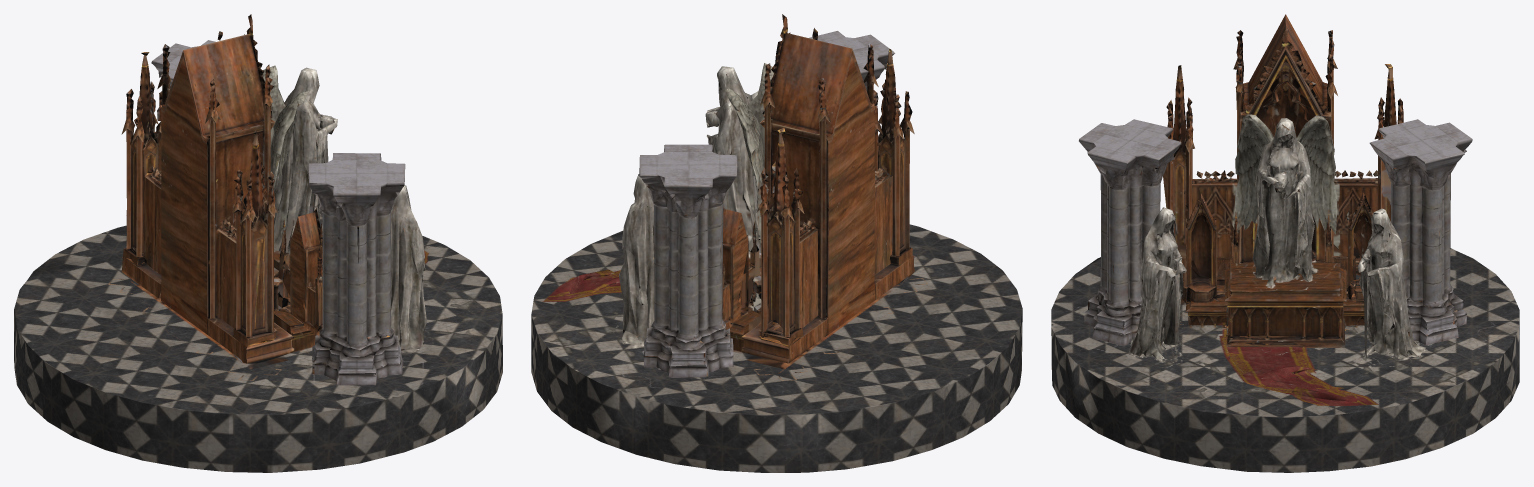
Rendered from SM_GothicInterior.fbx.
3 views of the same model, side by side, from view 1: azimuth 30°, elevation 25°; view 2: azimuth 150°, elevation 25°; view 3: azimuth 270°, elevation 25° (orthographic). The views are drawn at different scales.
Parts seen in each view (by area): view 1: SM_GothicInterior_LOD0; view 2: SM_GothicInterior_LOD0; view 3: SM_GothicInterior_LOD0.
Part boxes in pixels (box(x1,y1,x2,y2)): SM_GothicInterior_LOD0: box(14, 14, 502, 472); SM_GothicInterior_LOD0: box(531, 14, 1022, 472); SM_GothicInterior_LOD0: box(1051, 14, 1519, 472).
Bounding box in the file's own units: 33.06 × 32.94 × 26.62.
